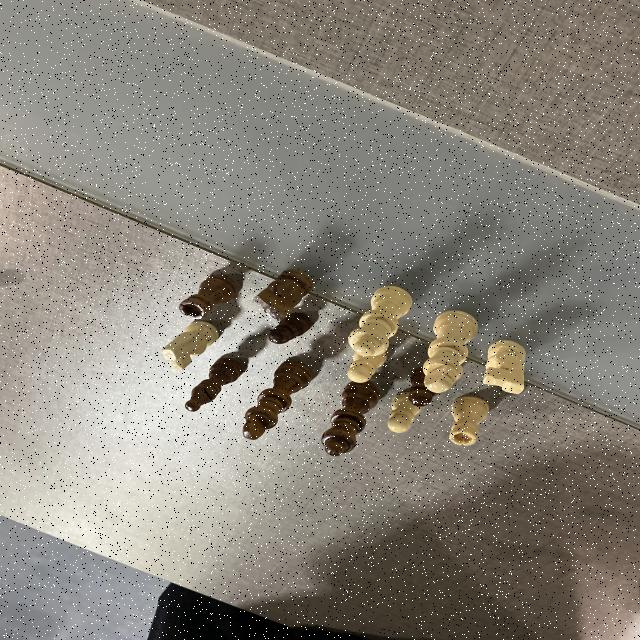Black-Bishop: (185, 358, 242, 412)
Black-King: (240, 359, 316, 441)
Black-Knight: (252, 268, 312, 318)
Black-Pawn: (270, 312, 312, 343), (410, 364, 436, 406)
Black-Queen: (326, 381, 380, 462)
Black-Rook: (180, 274, 233, 320)
White-King: (424, 308, 474, 392)
White-Knight: (164, 318, 218, 375), (486, 341, 526, 394)
White-Pawn: (347, 350, 385, 382), (384, 395, 414, 435)
White-Queen: (346, 286, 414, 358)
White-Rook: (448, 398, 494, 446)
